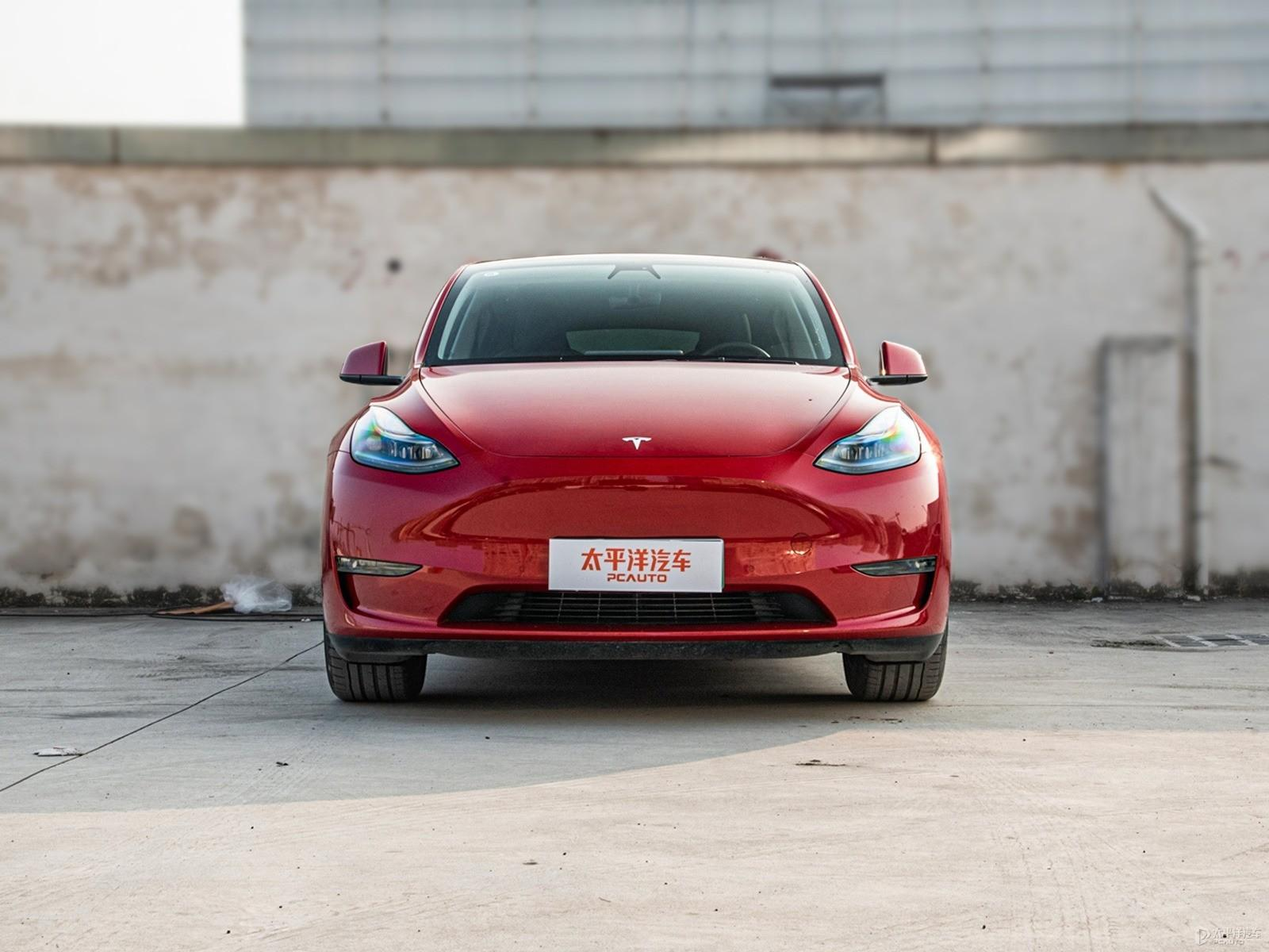Tesla: (622, 436, 653, 451)
